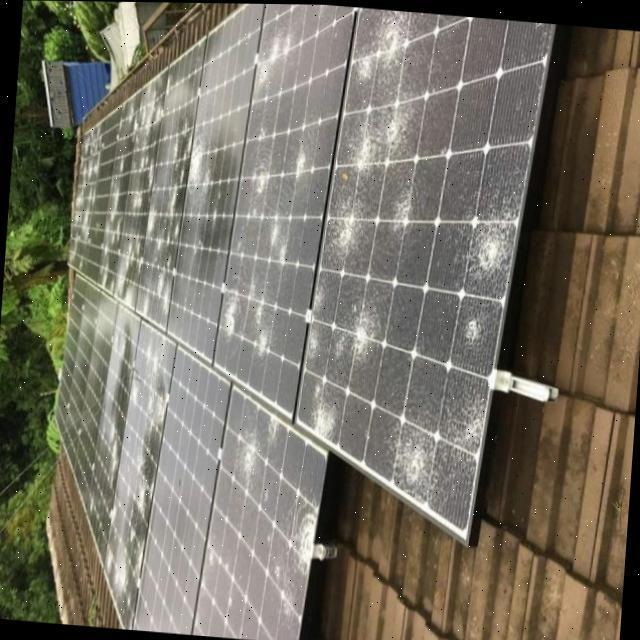Anomaly Solar Panel: (292, 6, 554, 543), (210, 3, 353, 419), (190, 382, 327, 640), (164, 3, 262, 363), (131, 345, 229, 634), (101, 317, 175, 629), (134, 32, 203, 329), (53, 273, 115, 514), (66, 90, 138, 297), (84, 300, 139, 567), (111, 64, 165, 308)
Structural Damage: (381, 362, 487, 528), (446, 169, 514, 362), (265, 469, 321, 635), (226, 390, 287, 515), (328, 182, 416, 267), (348, 93, 419, 176), (352, 7, 425, 87), (336, 295, 385, 369), (66, 127, 91, 267), (78, 116, 104, 244), (253, 29, 294, 91), (303, 274, 329, 370), (305, 378, 344, 441), (260, 210, 295, 270), (247, 296, 275, 363), (186, 134, 214, 199), (128, 451, 155, 518), (195, 528, 223, 592), (218, 285, 245, 351), (247, 149, 272, 218), (169, 116, 193, 182), (102, 415, 120, 487), (152, 253, 173, 313), (288, 141, 311, 194), (161, 182, 182, 240), (143, 200, 164, 251), (102, 552, 129, 590), (124, 526, 144, 574), (140, 340, 165, 377), (139, 93, 160, 135), (142, 389, 166, 425), (97, 242, 111, 289), (123, 233, 140, 269), (137, 155, 154, 188), (114, 278, 133, 304), (110, 332, 128, 359), (108, 180, 119, 223), (251, 122, 270, 146), (125, 105, 136, 143), (138, 288, 150, 319), (110, 214, 122, 244), (128, 382, 139, 409), (129, 191, 142, 211), (108, 502, 118, 526), (86, 494, 94, 515), (117, 155, 123, 174)
